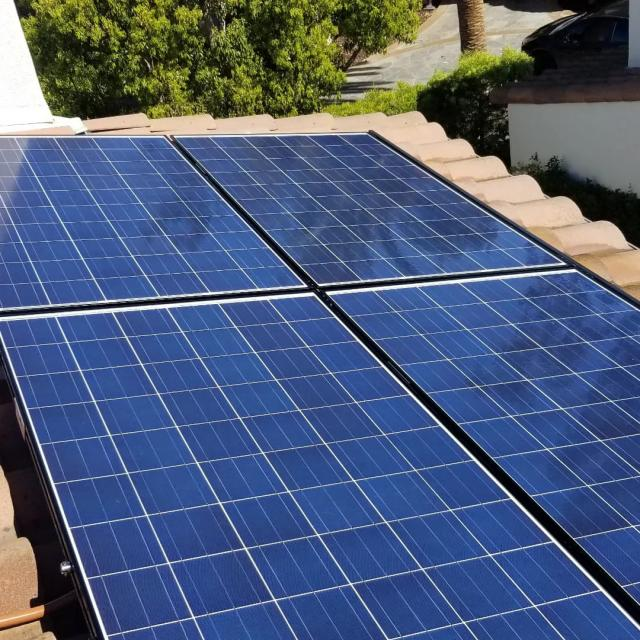no faulty: (1, 295, 639, 640), (333, 274, 640, 604), (181, 130, 567, 277), (3, 132, 304, 313)
